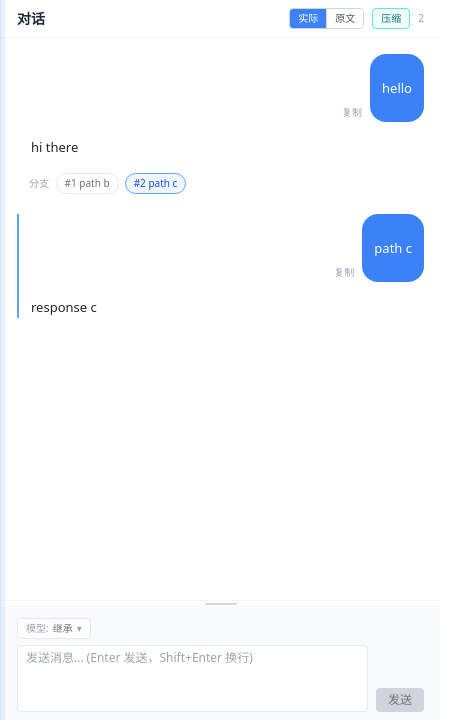
Scenario: ConversationView › switches branches when the user picks a different option at a fork
Step 1. Click the button with test id "branch-option-b" → (87, 183), box [56, 173, 119, 194]
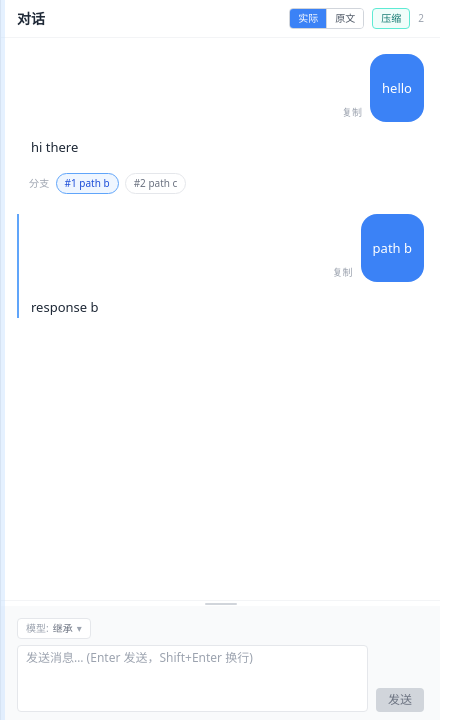
Check: the element with test id "conversation-node-b" is shown, box [17, 214, 424, 318]
Check: the element with test id "conversation-node-c" is gone
